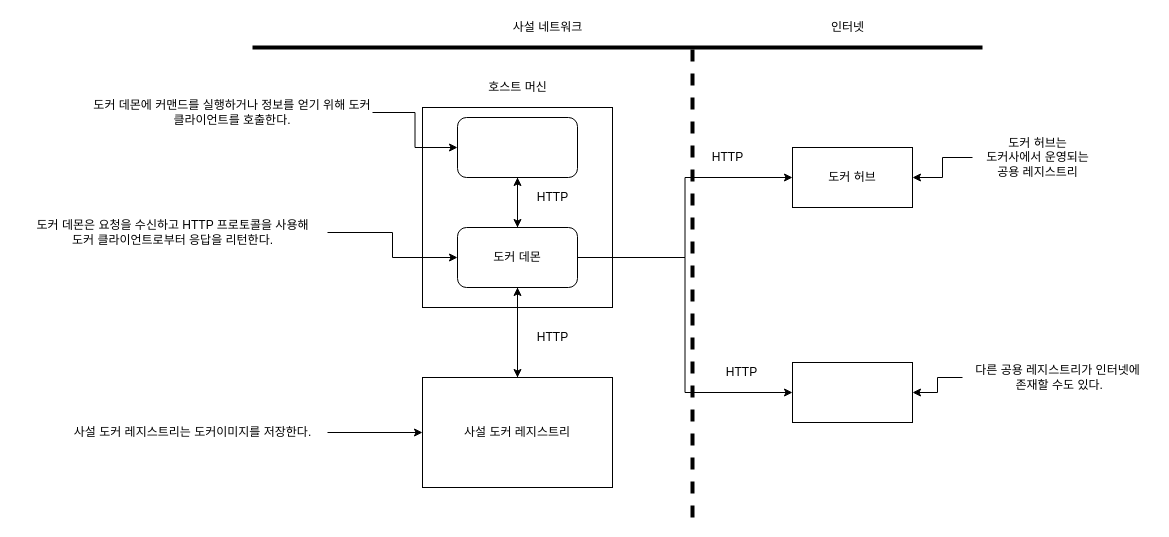
The diagram is 1169 pixels wide and 537 high, and some of its shapes have lost their labels. Each missing label, with the centre of its shape:
"다른 공용 도커 레지스트리" belongs at (852,392).
"도커 클라이언트" belongs at (517,147).
